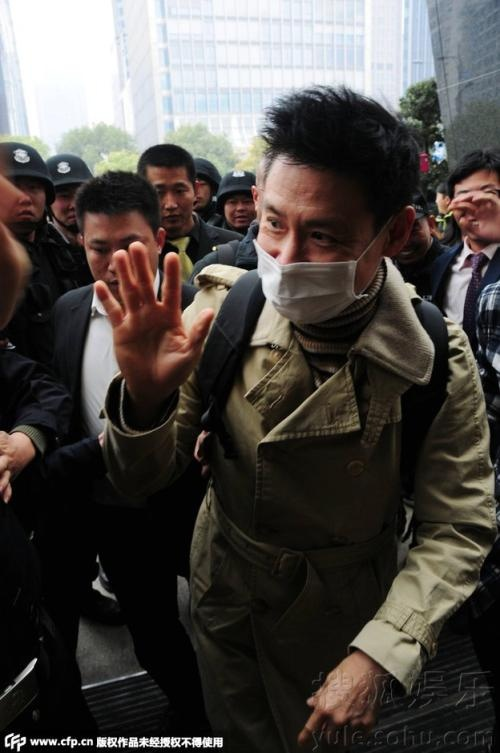correctlyWear: (249, 166, 414, 327)
noWear: (75, 217, 162, 298), (143, 155, 199, 233), (450, 181, 500, 238), (8, 172, 48, 224), (397, 213, 436, 263), (219, 188, 253, 228), (47, 185, 77, 226), (196, 173, 217, 209), (433, 189, 452, 216)
